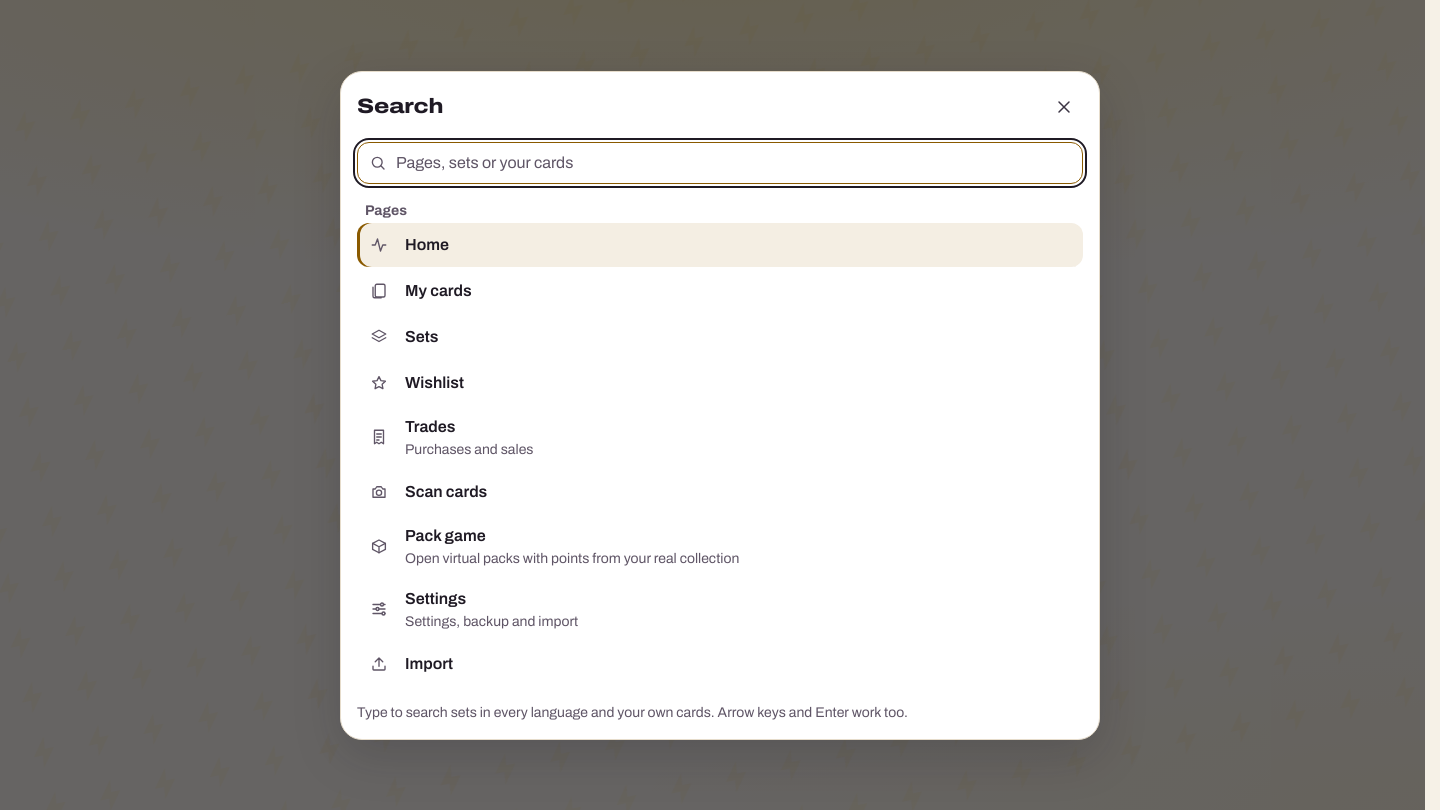
Test case: SearchDialog › niets gevonden: dat staat er
In the dropdown named "Search pages, sets and your cards": (720, 162) left=357, top=142, right=1083, bottom=184, type "qqqq"
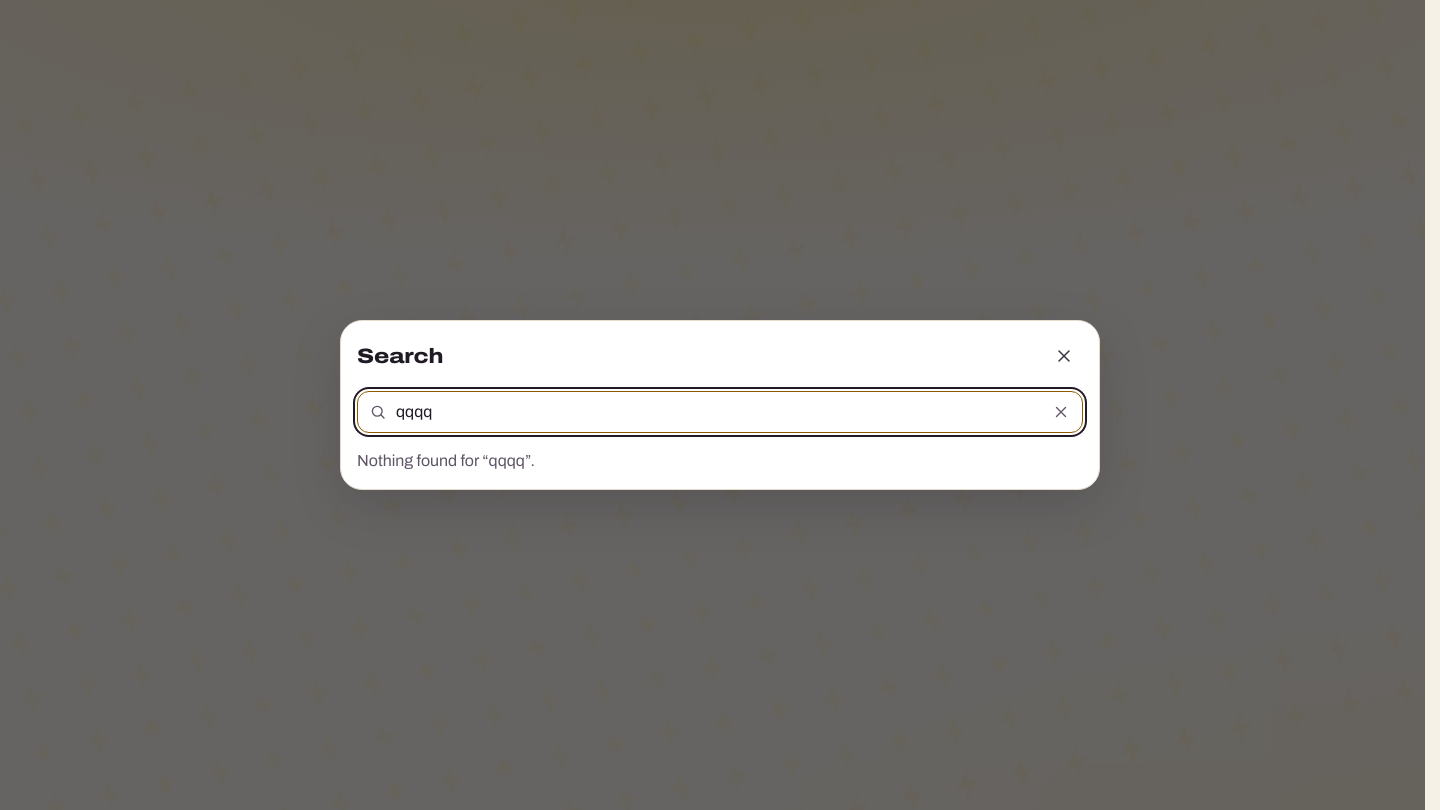
expect the text "Nothing found for “qqqq”." is shown: met, box left=357, top=452, right=535, bottom=469
